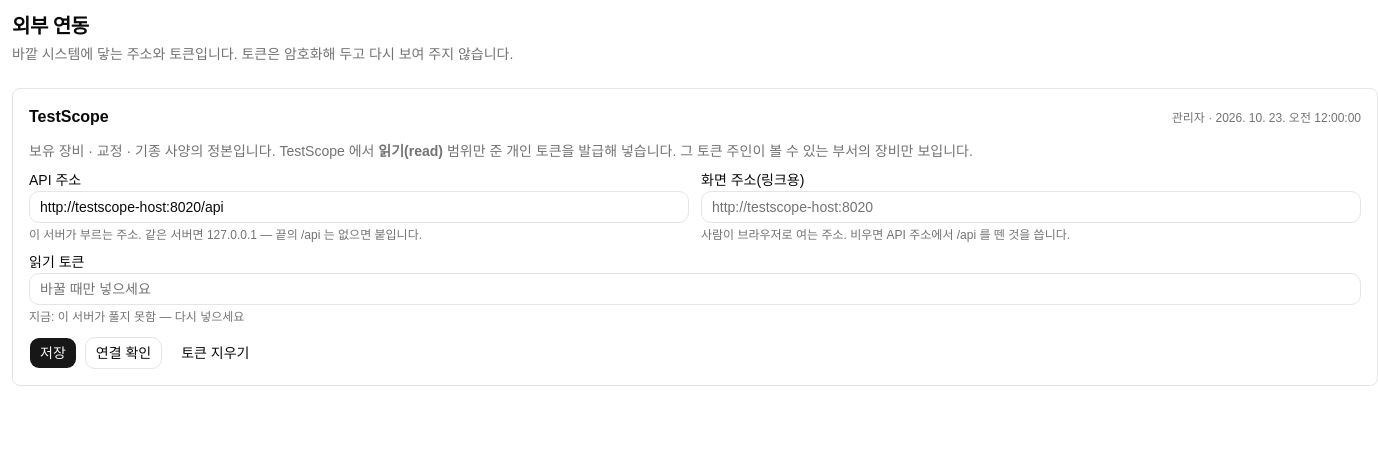
Test: 외부 연동 › 풀지 못하는 토큰은 다시 넣으라고 말하고, 연결 확인 결과가 선다
The image size is (1378, 453).
Expected: the text "지금: 이 서버가 풀지 못함 — 다시 넣으세요" is shown, [29,310,244,324]
Click the button "연결 확인" at (124, 353), box [85,337,162,369]
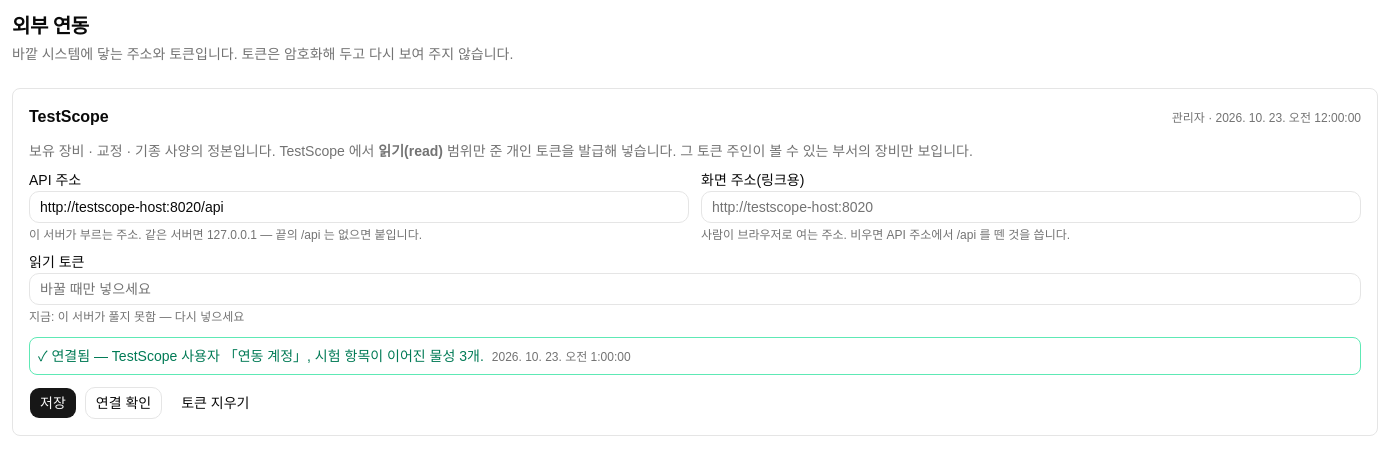
Now the message shows "연동 계정", box [52,348,484,364]
